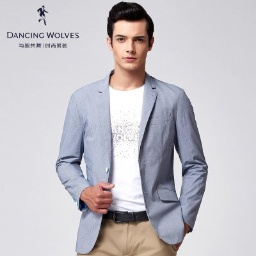face: (106, 1, 156, 72)
